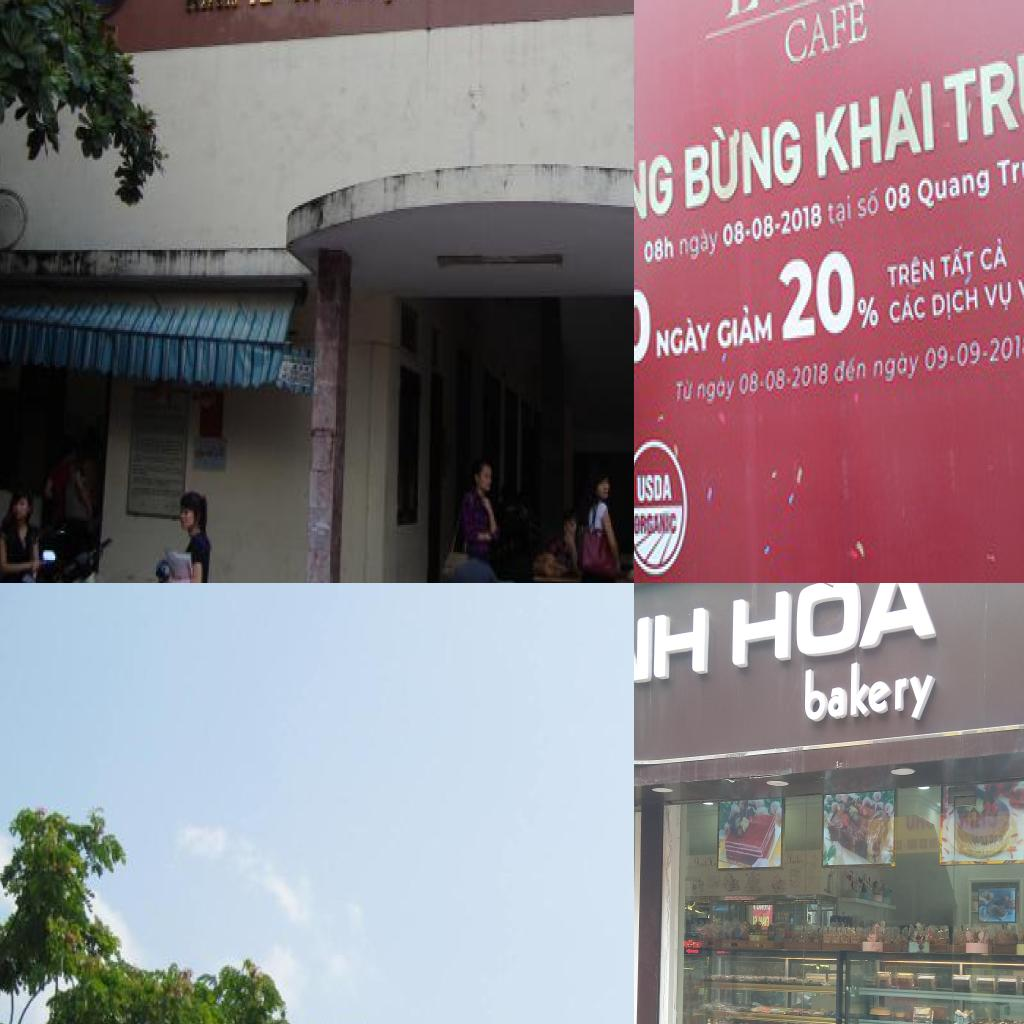text: (730, 583, 943, 670), (676, 102, 803, 221), (810, 76, 936, 186), (938, 0, 1024, 154), (801, 652, 947, 730), (766, 239, 858, 345), (634, 604, 712, 700), (784, 0, 870, 74), (917, 155, 994, 219), (634, 139, 675, 241), (713, 297, 775, 356), (654, 310, 715, 366), (887, 249, 939, 295), (929, 284, 983, 328), (678, 221, 722, 267), (871, 348, 920, 389), (992, 142, 1024, 200), (634, 284, 653, 378), (781, 201, 824, 241), (888, 290, 930, 330), (938, 242, 976, 284), (635, 470, 674, 508), (640, 231, 676, 272), (824, 193, 855, 239), (987, 328, 1024, 366), (980, 236, 1013, 277), (713, 0, 763, 27), (983, 280, 1016, 320), (855, 181, 884, 226), (790, 361, 832, 391), (833, 353, 868, 389), (634, 510, 678, 538), (698, 376, 737, 407), (885, 178, 914, 218), (857, 290, 882, 335), (722, 216, 746, 254), (750, 211, 776, 246), (184, 0, 244, 15), (924, 343, 950, 376), (958, 338, 983, 371), (764, 363, 786, 399), (738, 368, 760, 399), (674, 374, 696, 402), (1011, 269, 1024, 307), (786, 850, 805, 864), (693, 855, 707, 868), (707, 855, 717, 868), (753, 913, 757, 925), (753, 904, 755, 910)
